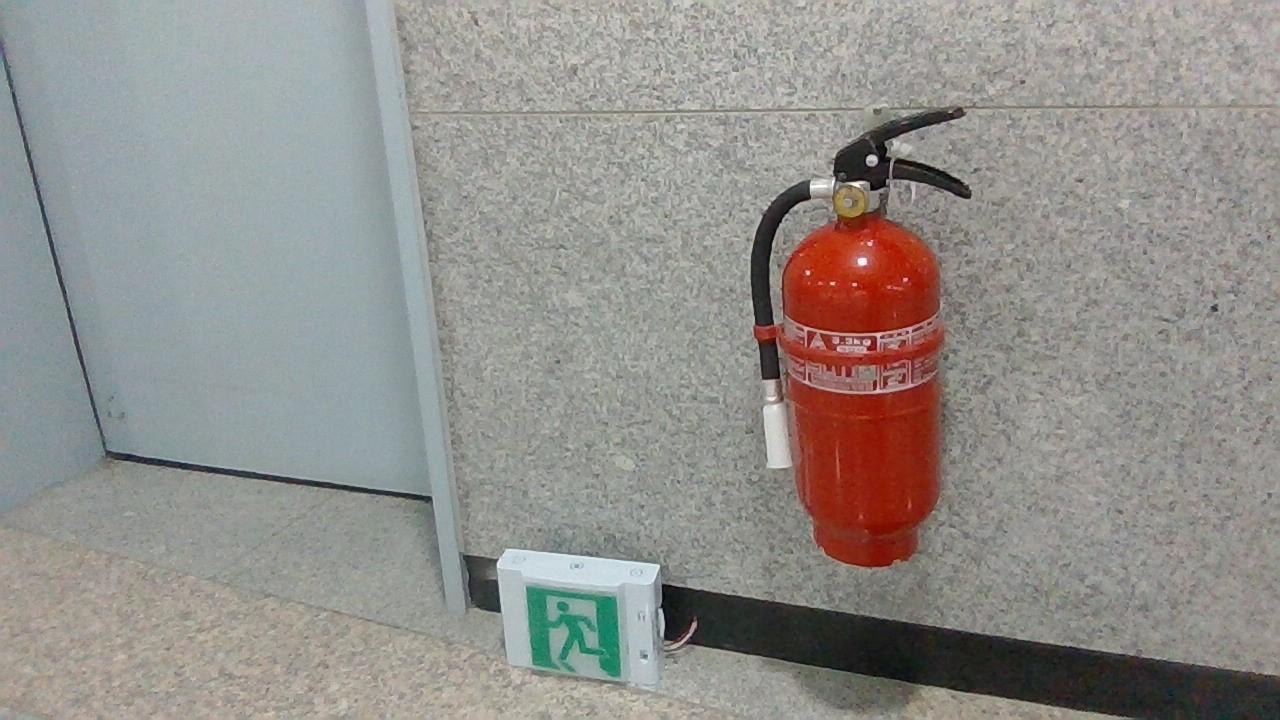emergency_exit: (494, 546, 665, 692)
